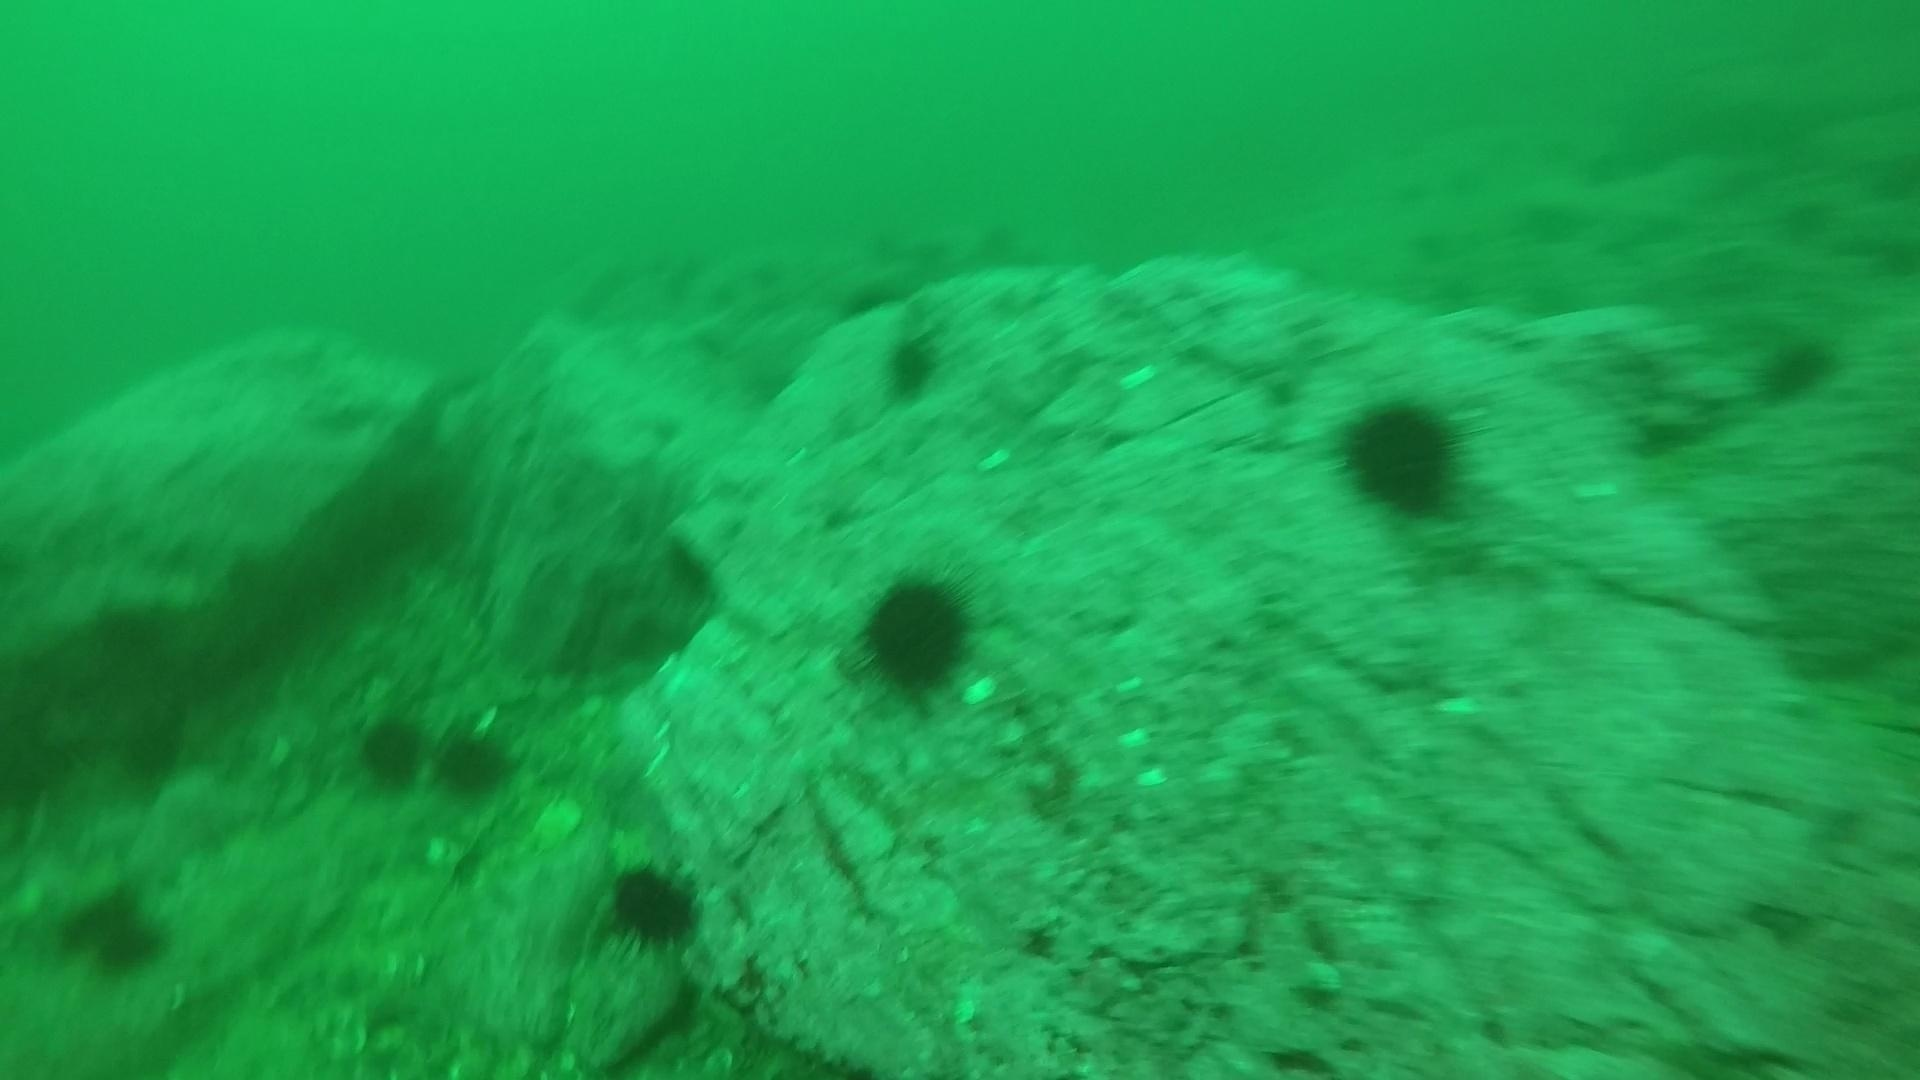echinus: (1331, 390, 1477, 524), (851, 566, 982, 702), (600, 853, 707, 953), (426, 717, 517, 803), (349, 707, 434, 796), (1750, 328, 1842, 407), (876, 326, 947, 406), (62, 887, 138, 955), (96, 913, 171, 980)
